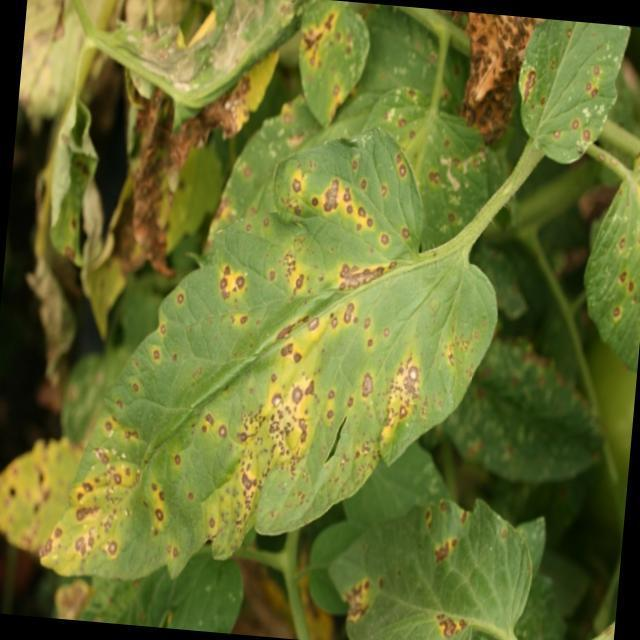Septoria: (29, 277, 210, 585), (206, 284, 449, 502), (208, 143, 414, 322), (516, 18, 614, 174), (372, 98, 495, 221), (593, 140, 640, 340), (298, 8, 374, 119)
